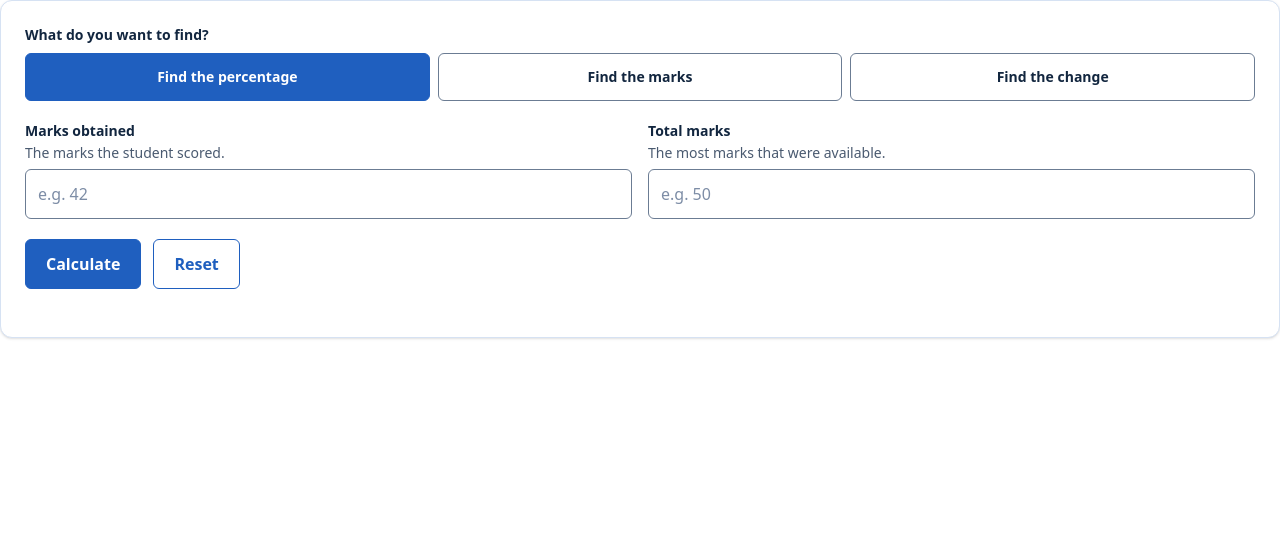
PercentageCalculator › switches modes and finds marks from a percentage
The image size is (1280, 543).
Click the radio button labelled "Find the marks".
click(640, 77)  # box [438,53,842,101]
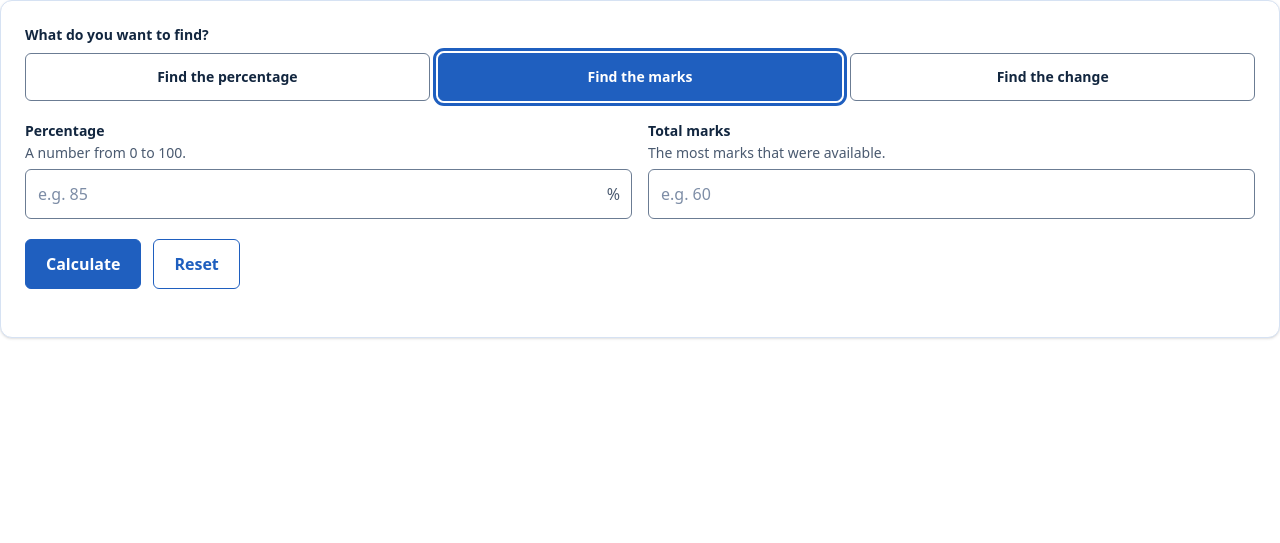
Type "85" into the field labelled "Percentage".
click(328, 194); type("85")  # box [25,169,632,219]
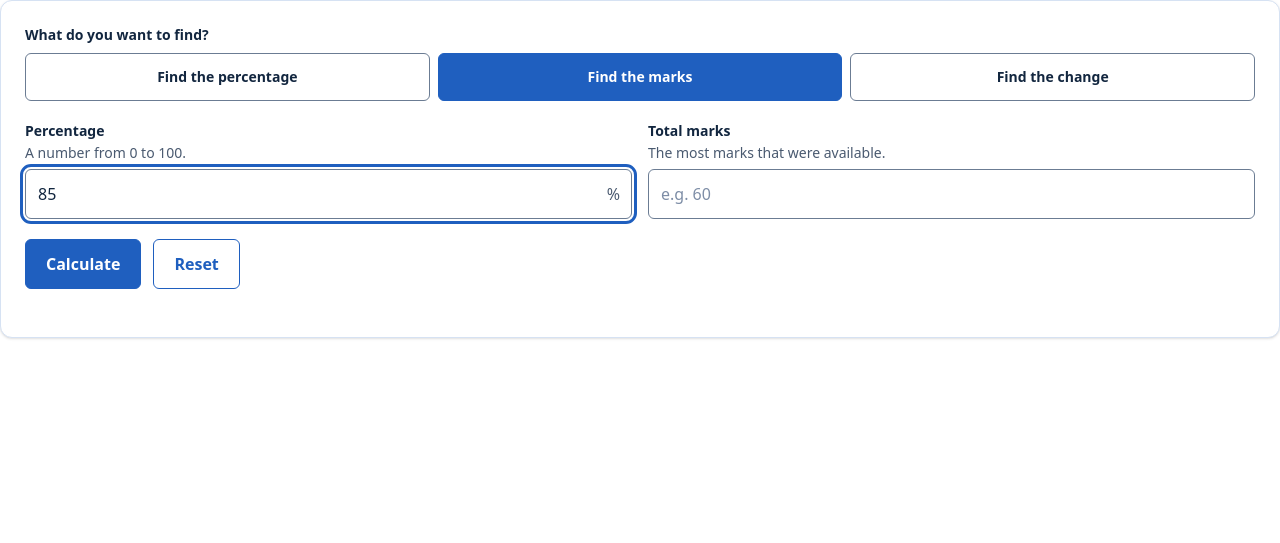
Type "60" into the field labelled "Total marks".
click(952, 194); type("60")  # box [648,169,1255,219]
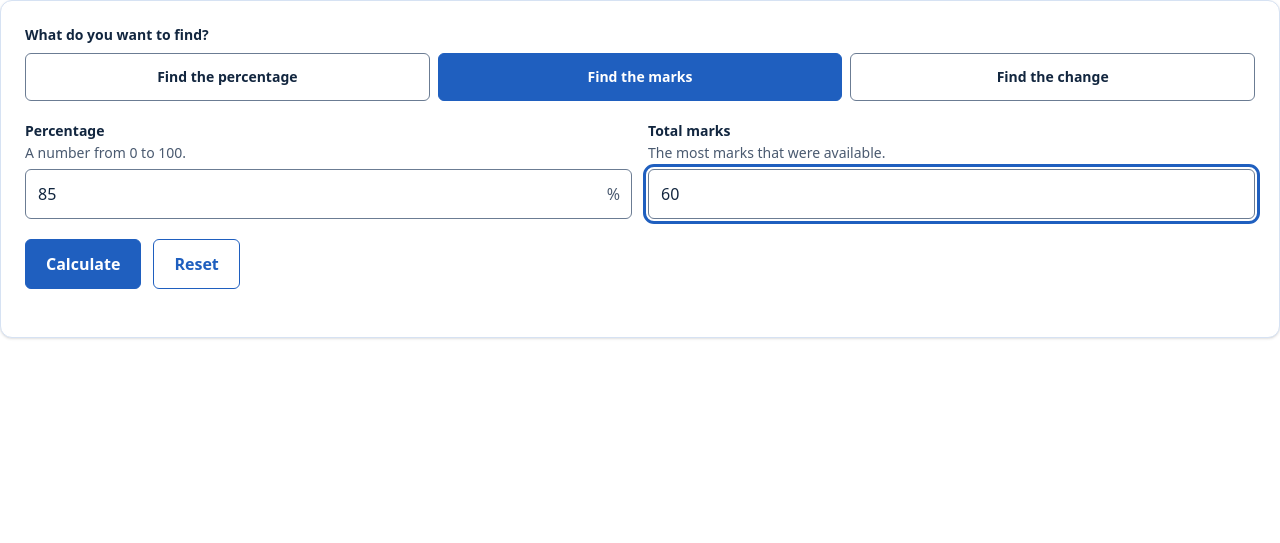
Click the button "Calculate".
click(83, 264)  # box [25,239,141,289]
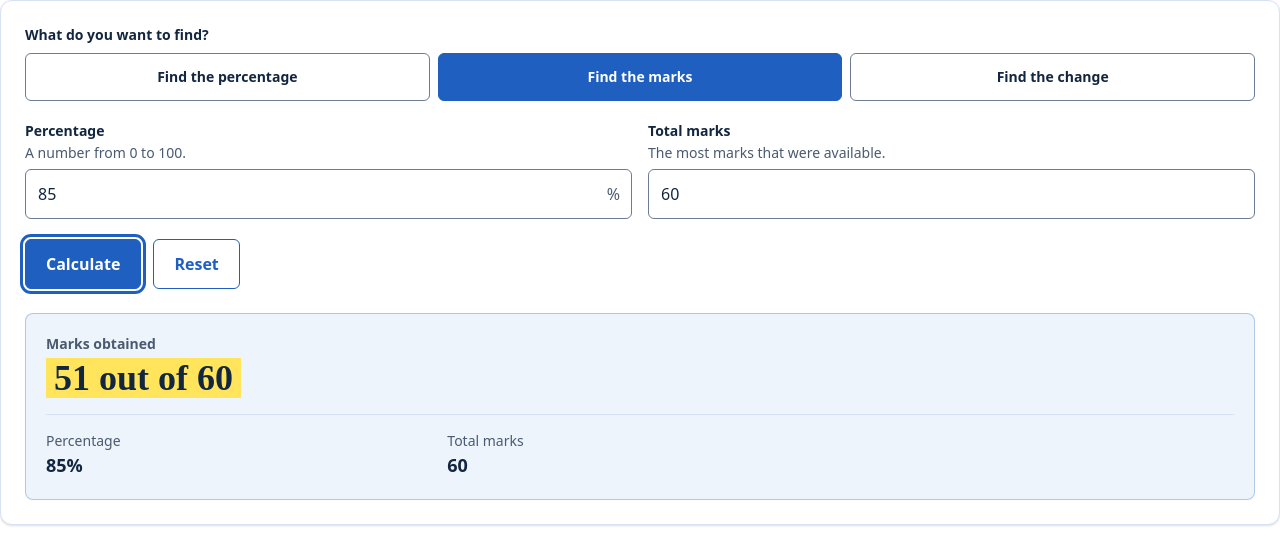
Check: the text "51 out of 60" is shown, box [46,358,241,398]
